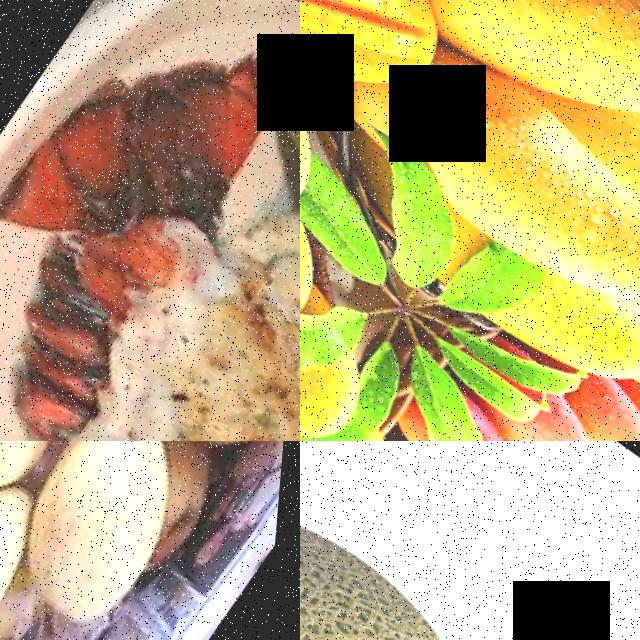lobster tails: (0, 0, 300, 441)
mango: (364, 31, 640, 346), (12, 441, 231, 640), (399, 0, 640, 153), (502, 243, 640, 412), (300, 10, 360, 192), (508, 379, 627, 441), (569, 366, 640, 441)
melon: (300, 441, 606, 640)
